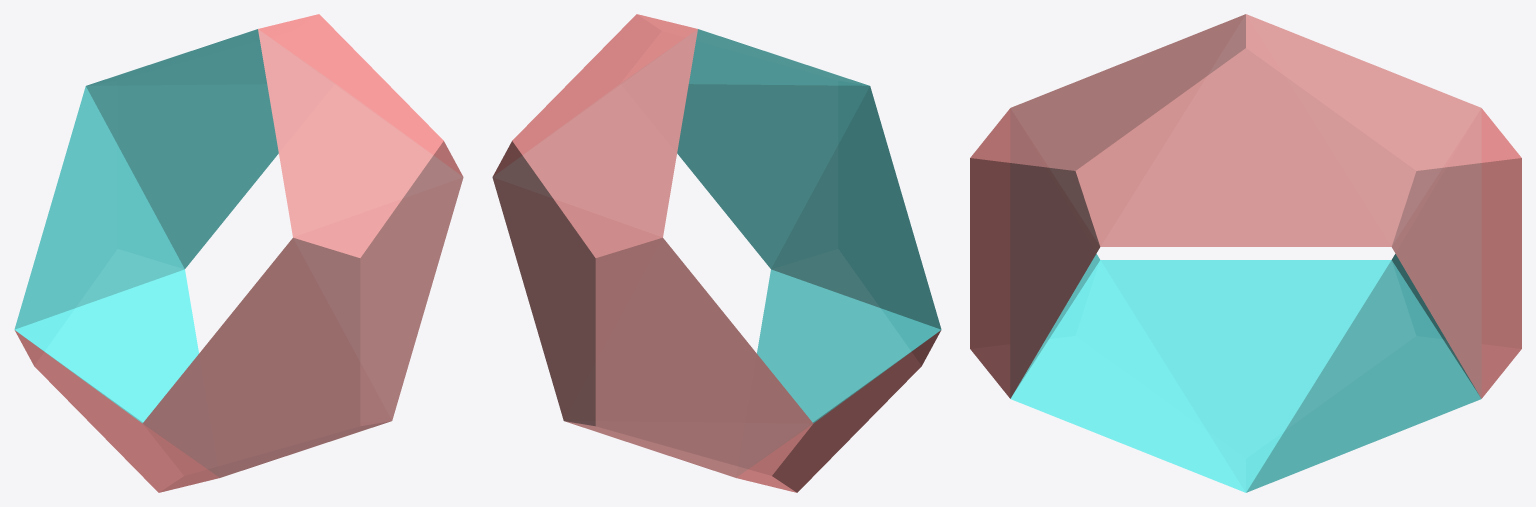
Rendered from PentagonalTrapezohedronAntiprismToroid.obj.
3 views of the same model, side by side, from view 1: azimuth 30°, elevation 25°; view 2: azimuth 150°, elevation 25°; view 3: azimuth 270°, elevation 25° (orthographic). The views are drawn at different scales.
Bounding box in the file's own units: 4 × 5.24 × 5.24.
